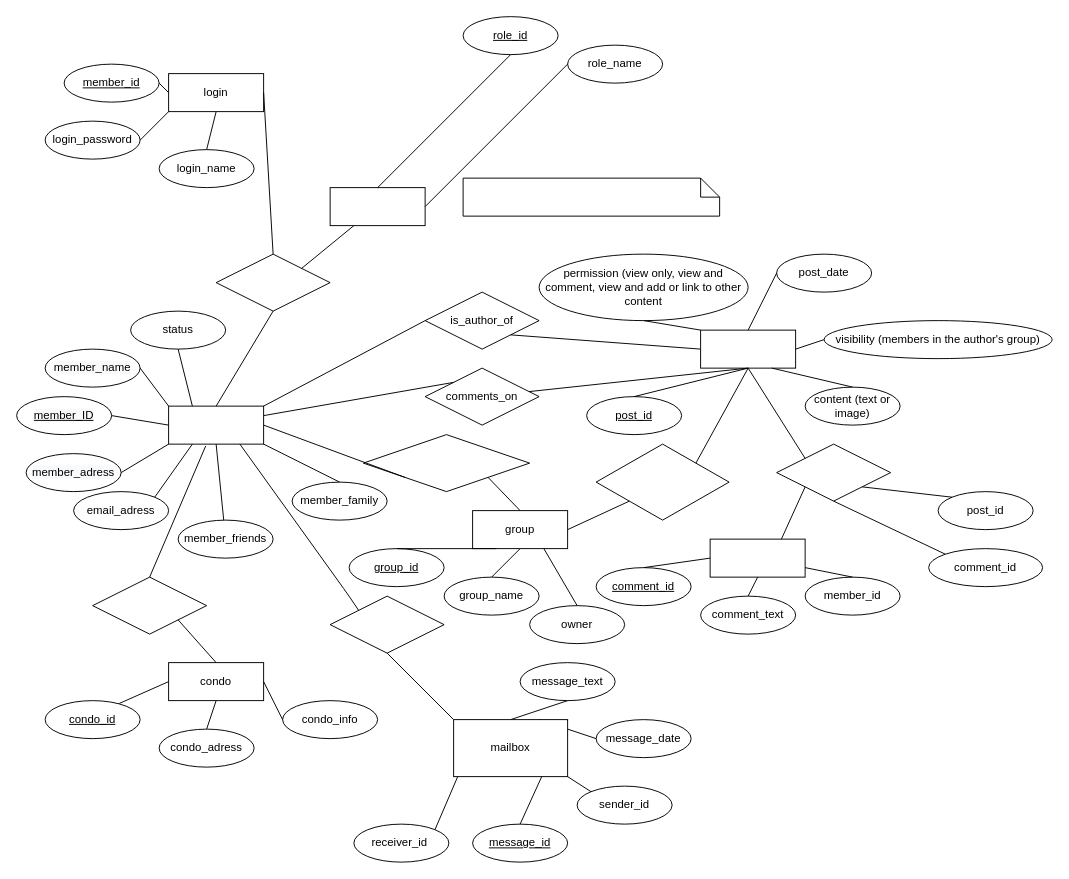
Image size: 1069x879. Some labels were removed from this diagram. Here are the shapes that lost their labels. From the top down, the centre of each, then its label:
the point at 377,206: privileges
the point at 591,196: privileges in the sense of SQL: creation, editing, deleting members or groups
the point at 272,282: has
the point at 748,348: posts
the point at 216,424: member
the point at 446,463: is_member_of
the point at 662,481: has_visibility_on
the point at 833,472: contains
the point at 757,557: comment
the point at 149,605: owns
the point at 386,624: has_mail
